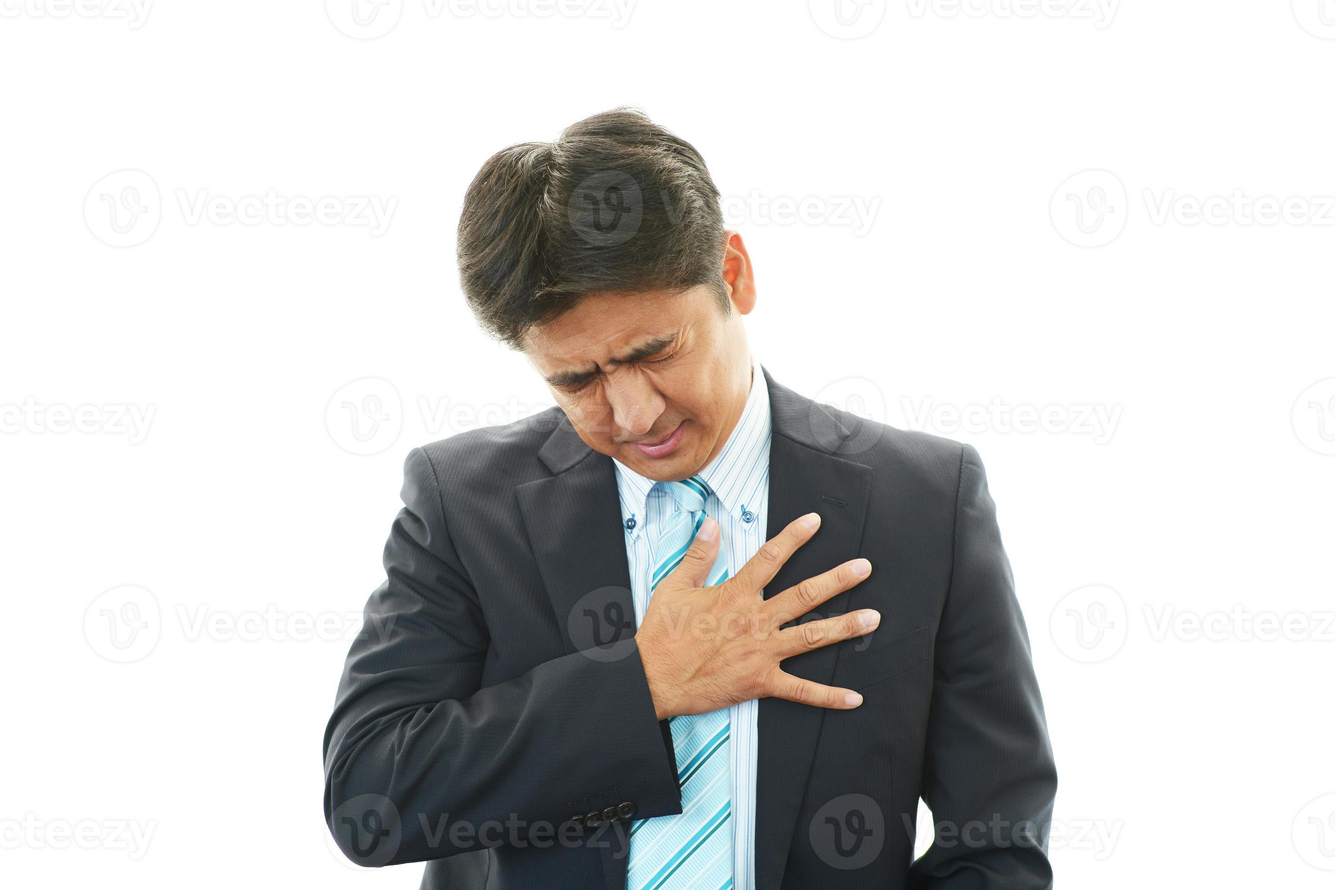pain: (535, 318, 704, 404)
